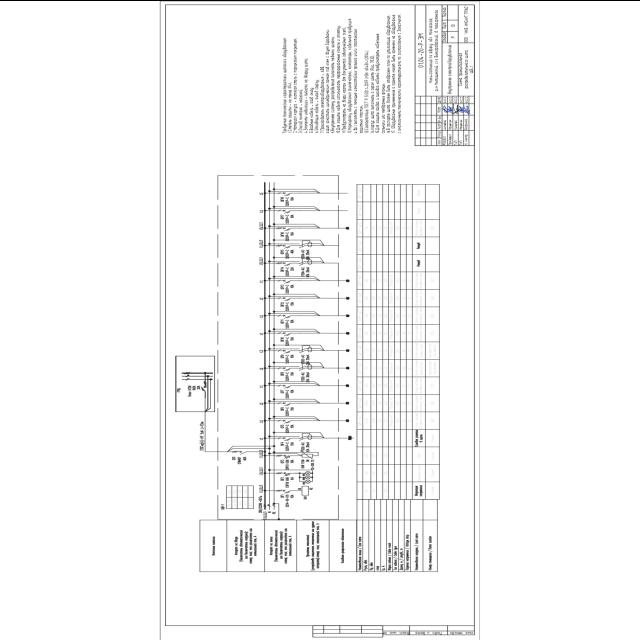-: (300, 458, 314, 469), (285, 493, 295, 506), (299, 441, 310, 452), (284, 476, 294, 488), (300, 370, 310, 382), (300, 353, 310, 364), (284, 440, 294, 450), (284, 353, 294, 363), (285, 388, 295, 398), (284, 265, 294, 275), (285, 230, 295, 240), (300, 248, 310, 258), (284, 214, 294, 224), (285, 336, 295, 346), (284, 423, 294, 433), (284, 196, 294, 206), (285, 459, 295, 469), (284, 283, 294, 293), (284, 300, 294, 310), (284, 370, 294, 380), (285, 248, 295, 258), (284, 318, 294, 328), (300, 266, 310, 276), (285, 406, 295, 416), (237, 456, 247, 464), (220, 503, 226, 509)
FV: (300, 452, 314, 458)
HL: (304, 470, 310, 474), (305, 478, 311, 482), (304, 474, 310, 478)
KM: (301, 485, 309, 495)
QF: (276, 225, 294, 230), (276, 243, 293, 248), (276, 488, 292, 493), (276, 260, 292, 265), (278, 383, 292, 388), (278, 330, 293, 334), (277, 418, 292, 422), (277, 401, 292, 405), (278, 366, 293, 370), (278, 278, 293, 282), (278, 296, 292, 300), (278, 314, 292, 318), (278, 436, 292, 440), (278, 349, 292, 353), (278, 191, 292, 195), (278, 208, 292, 212)
QFD: (298, 238, 313, 248), (298, 432, 314, 440), (298, 344, 314, 352), (298, 257, 312, 265), (298, 362, 313, 369)
QFU: (276, 470, 292, 476), (276, 453, 292, 458)
QS: (232, 449, 248, 454)
